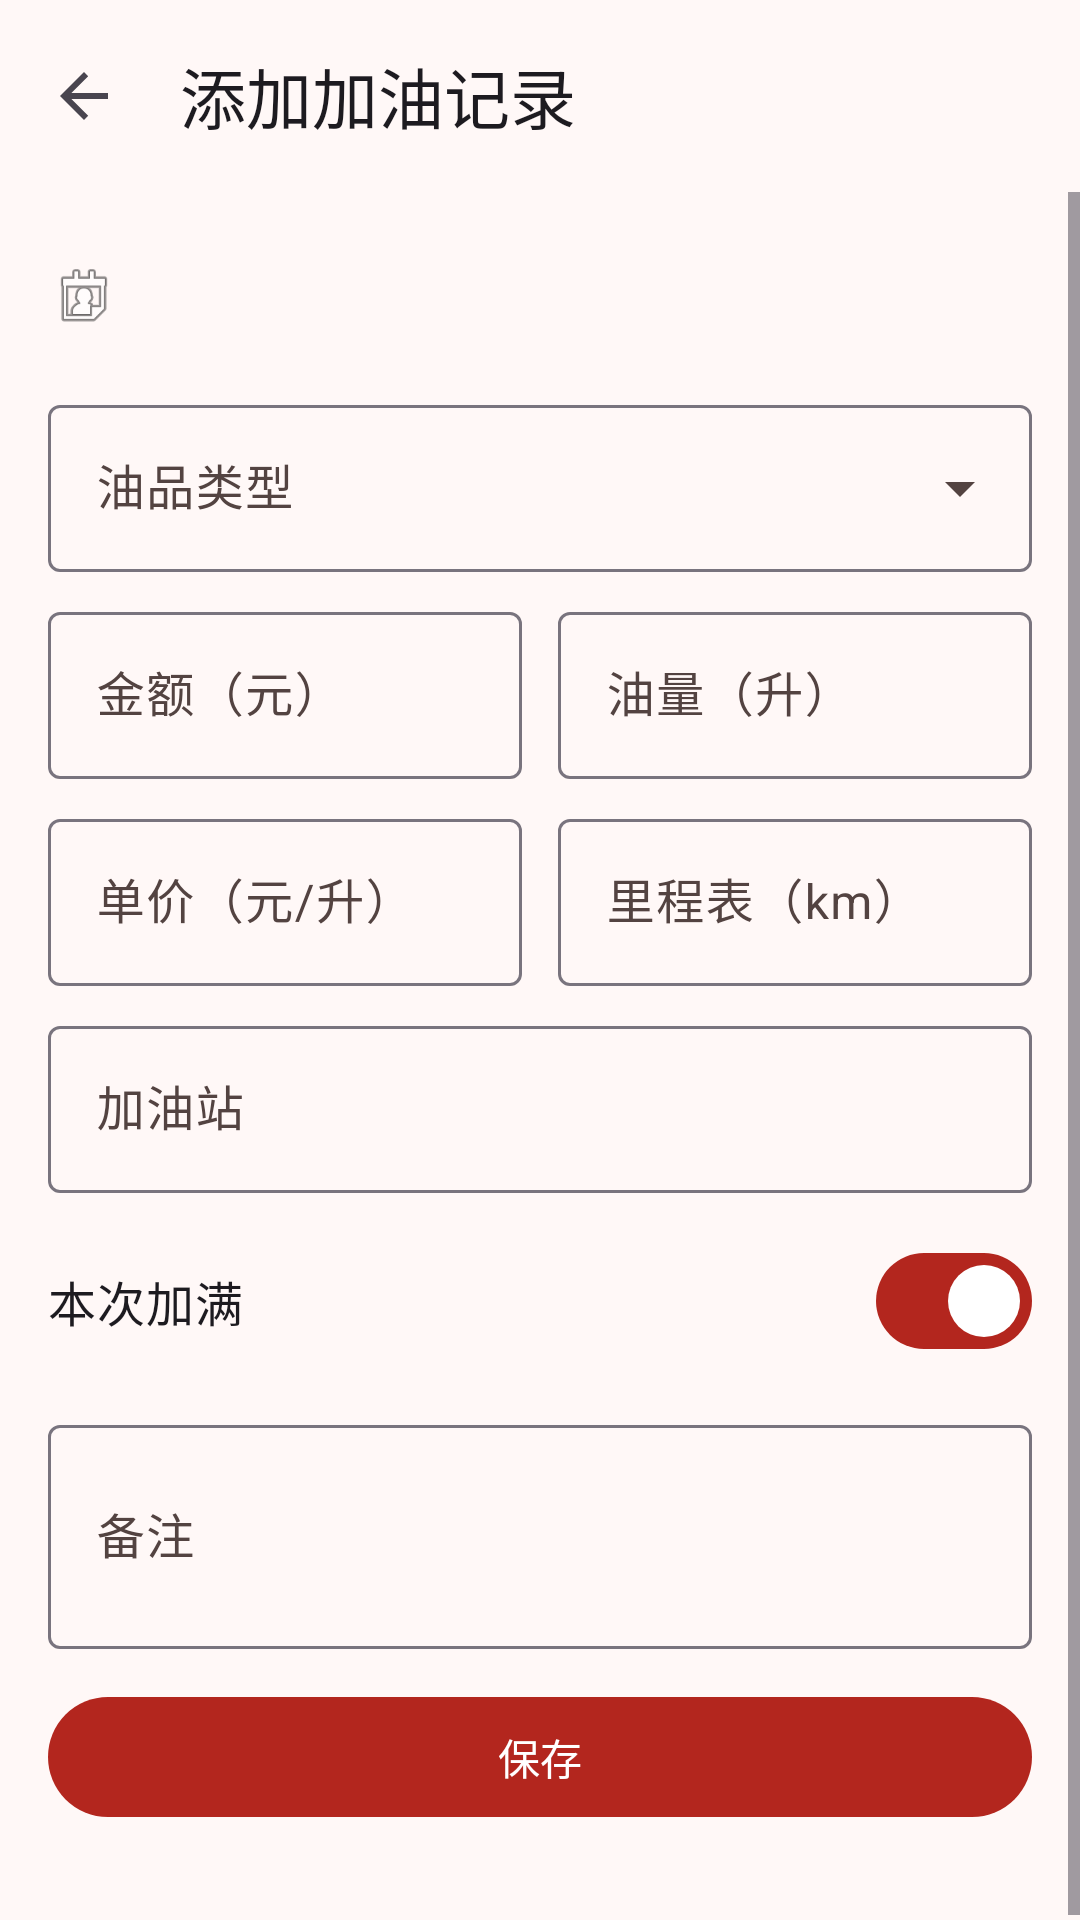

Where to tap for icons on this 1080 x 1920 app screen, as (x,y):
calendar: (84,295)
